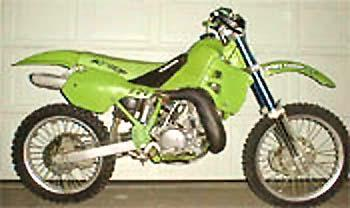motorcycle: (5, 2, 350, 208)
